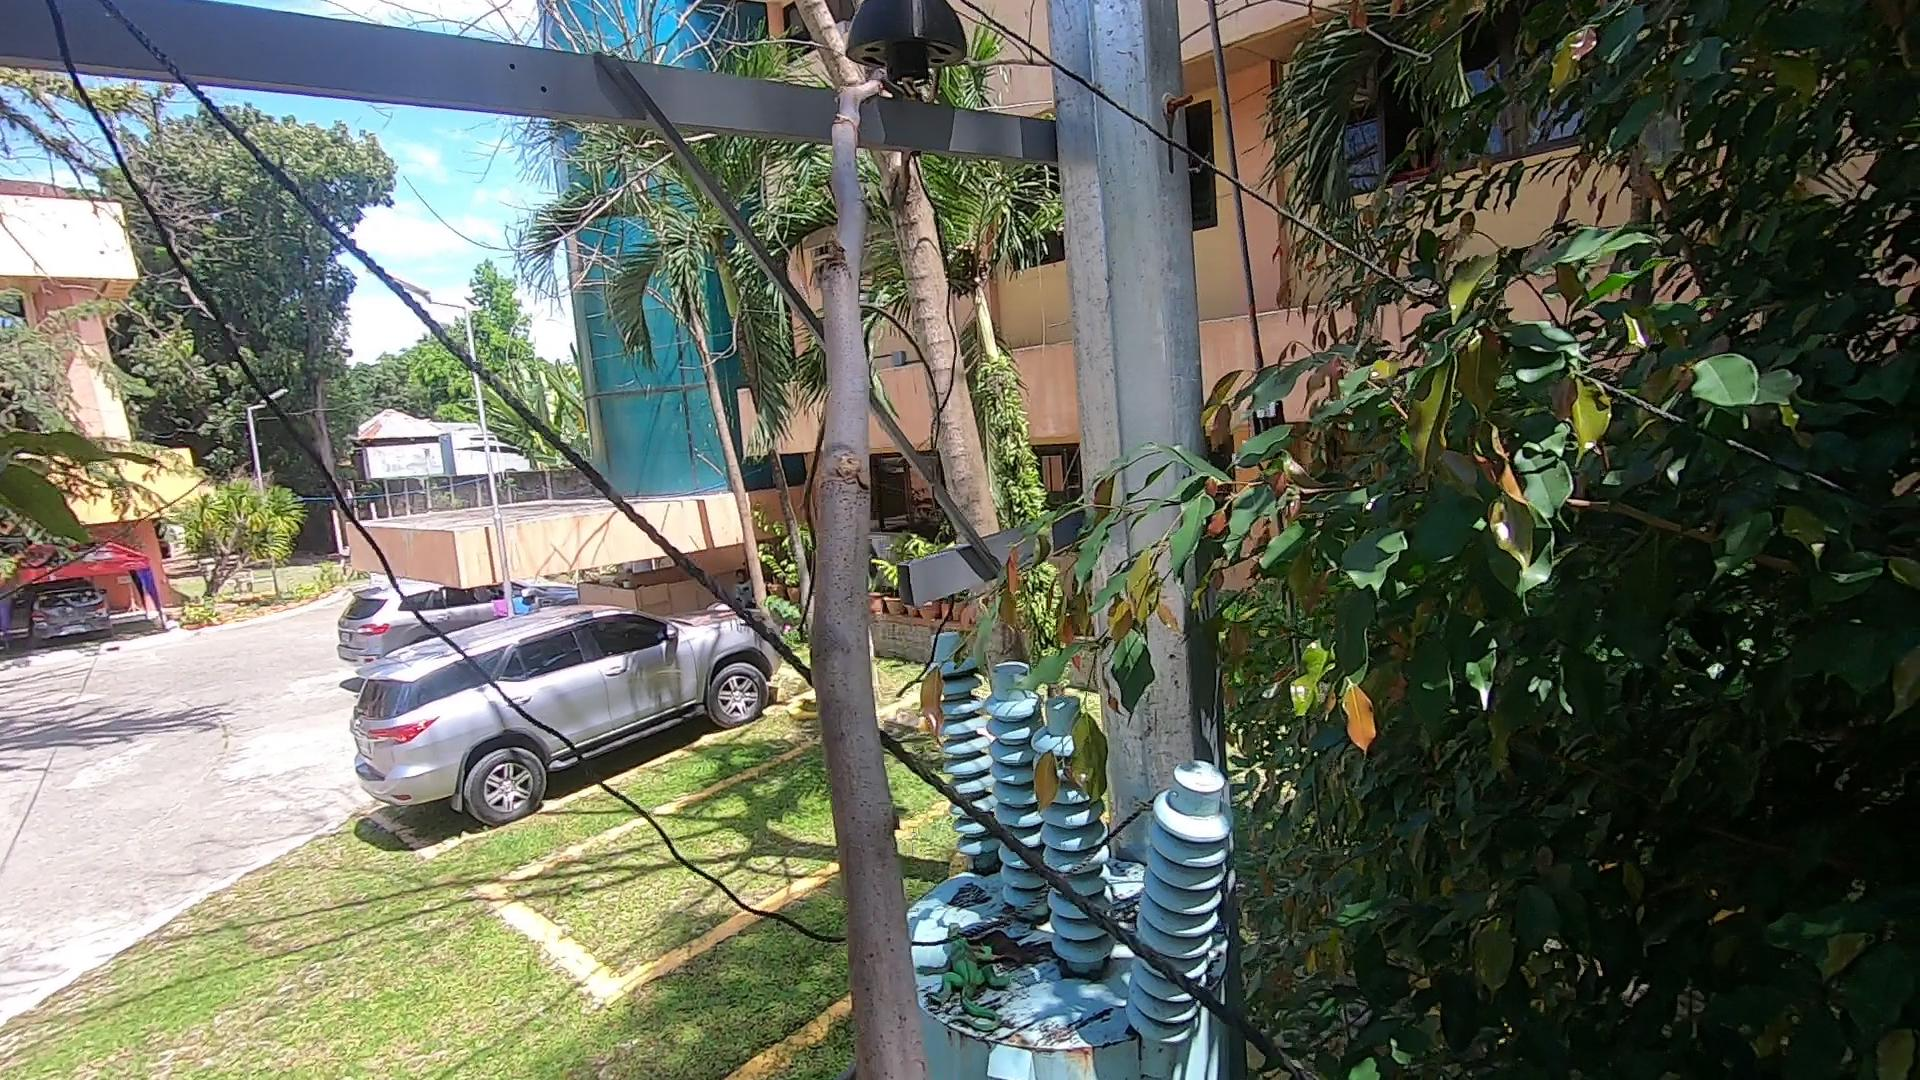branch with leaves: (880, 465, 1244, 791)
leaf: (963, 909, 1065, 972), (957, 857, 1007, 887), (1114, 887, 1143, 932)
tree branch: (808, 47, 968, 1080)
